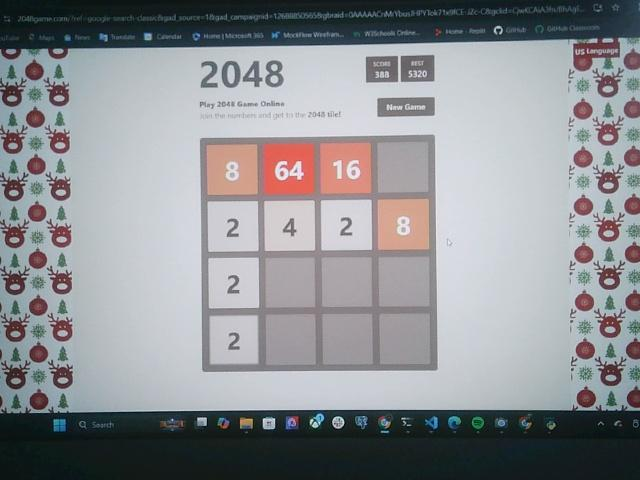board: (200, 137, 437, 370)
tile: (321, 199, 373, 251), (263, 143, 314, 194), (208, 257, 259, 308), (321, 142, 371, 194), (379, 197, 429, 249), (208, 202, 259, 252), (207, 145, 257, 195), (265, 201, 314, 252), (209, 315, 258, 364)
